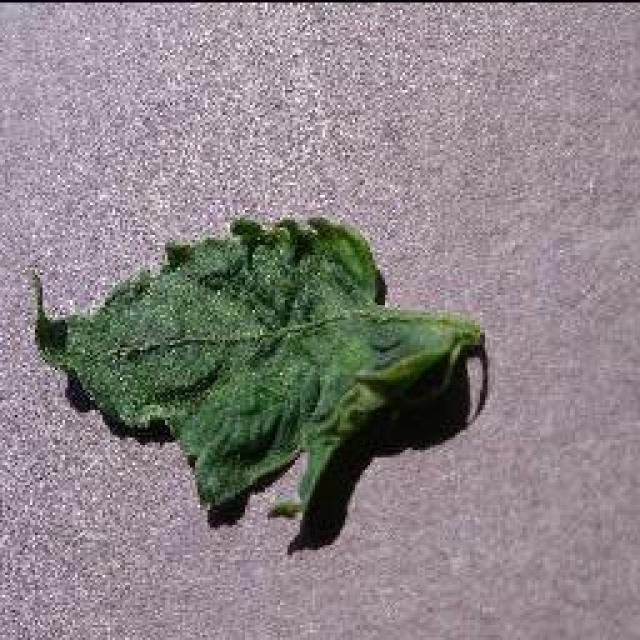Tomato___Tomato_mosaic_virus: (35, 218, 482, 520)
